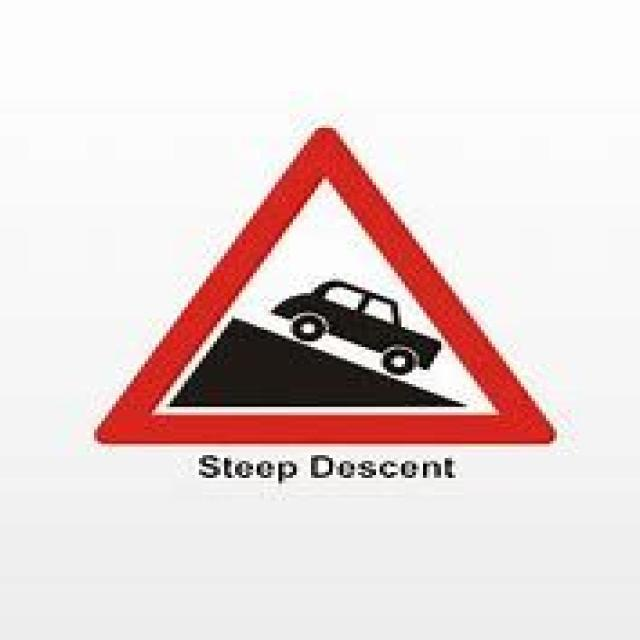steep descent: (93, 126, 567, 451)
